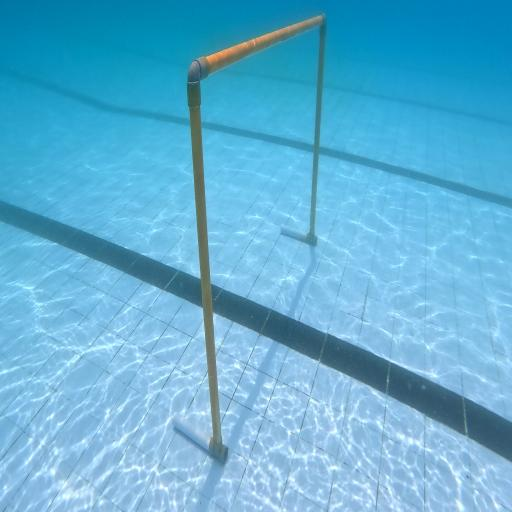gate: (173, 14, 327, 465)
